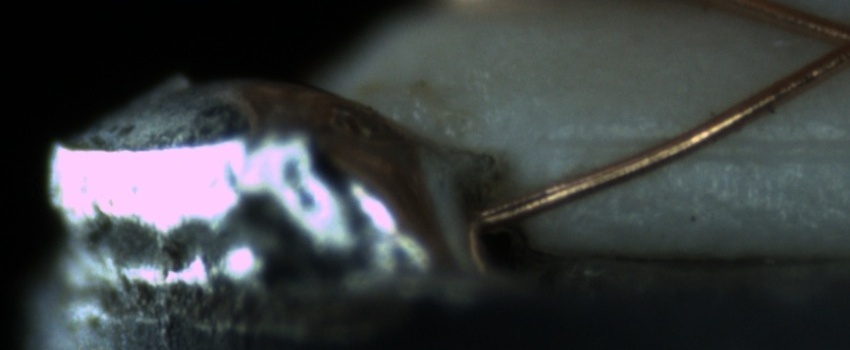CL: (800, 10, 849, 79)
DL: (548, 112, 846, 175)
